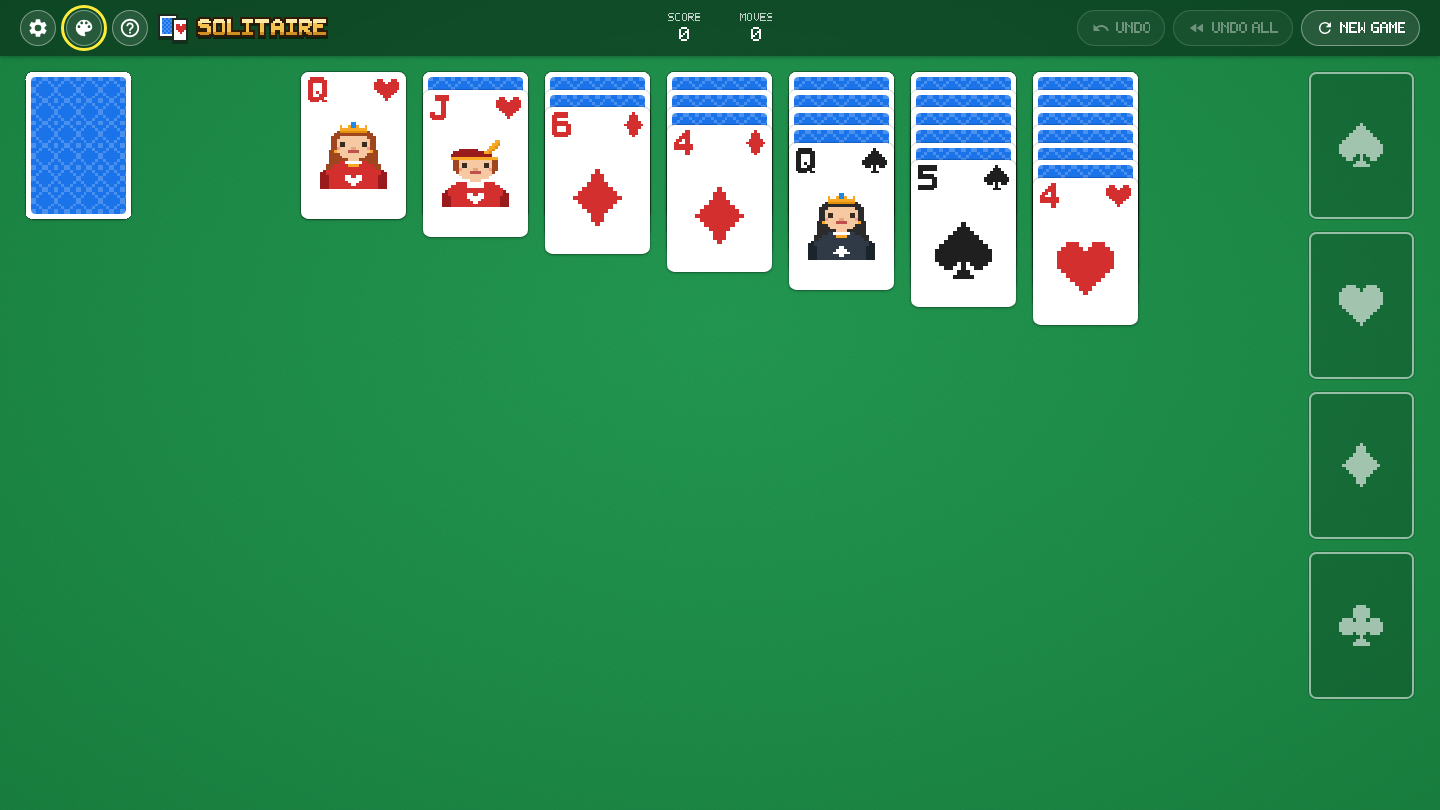
Test: quick table picker › Escape or a click outside closes it, and focus returns to the palette button
The image size is (1440, 810).
Click the button named "Change table" at (84, 28), box [66,10,102,46]
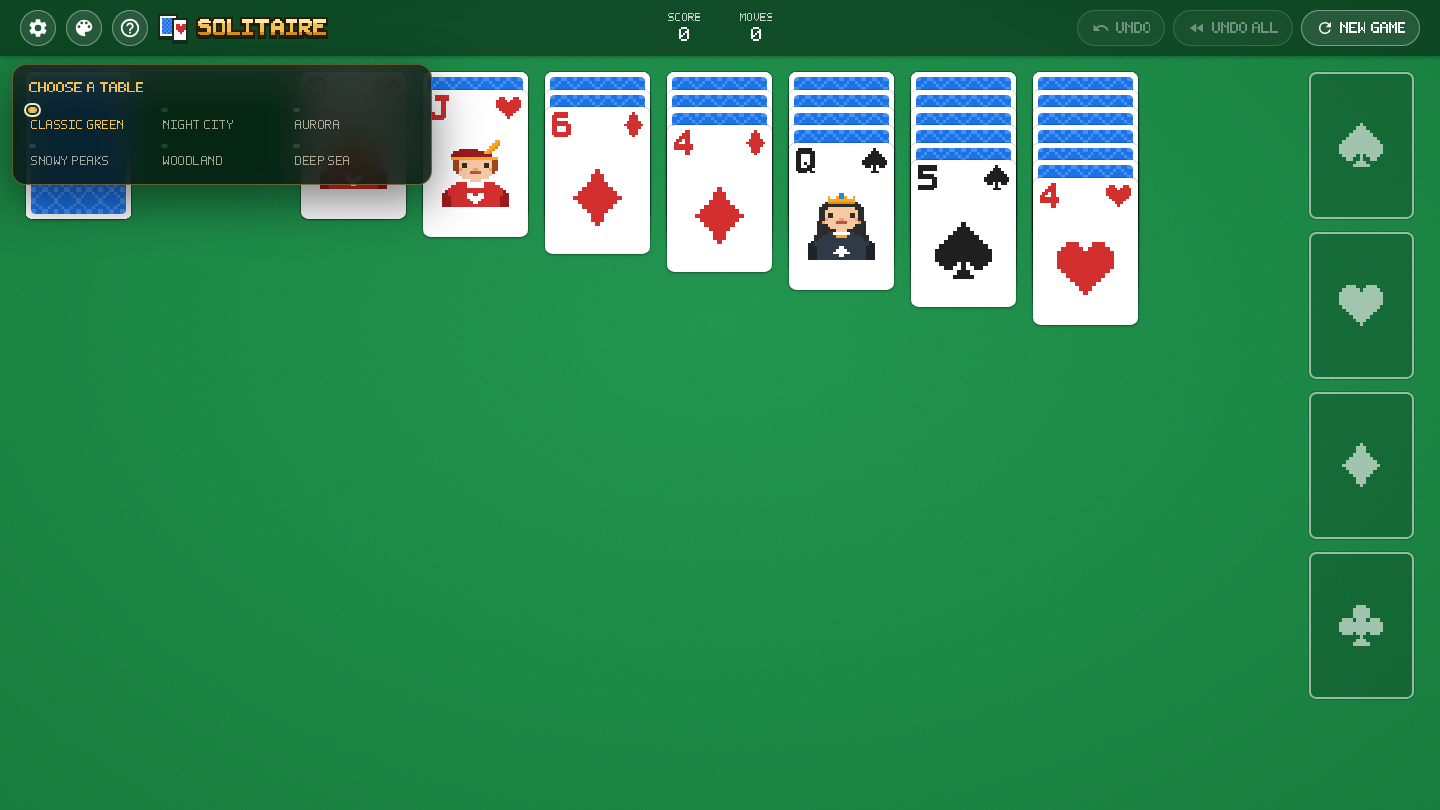
Press Escape
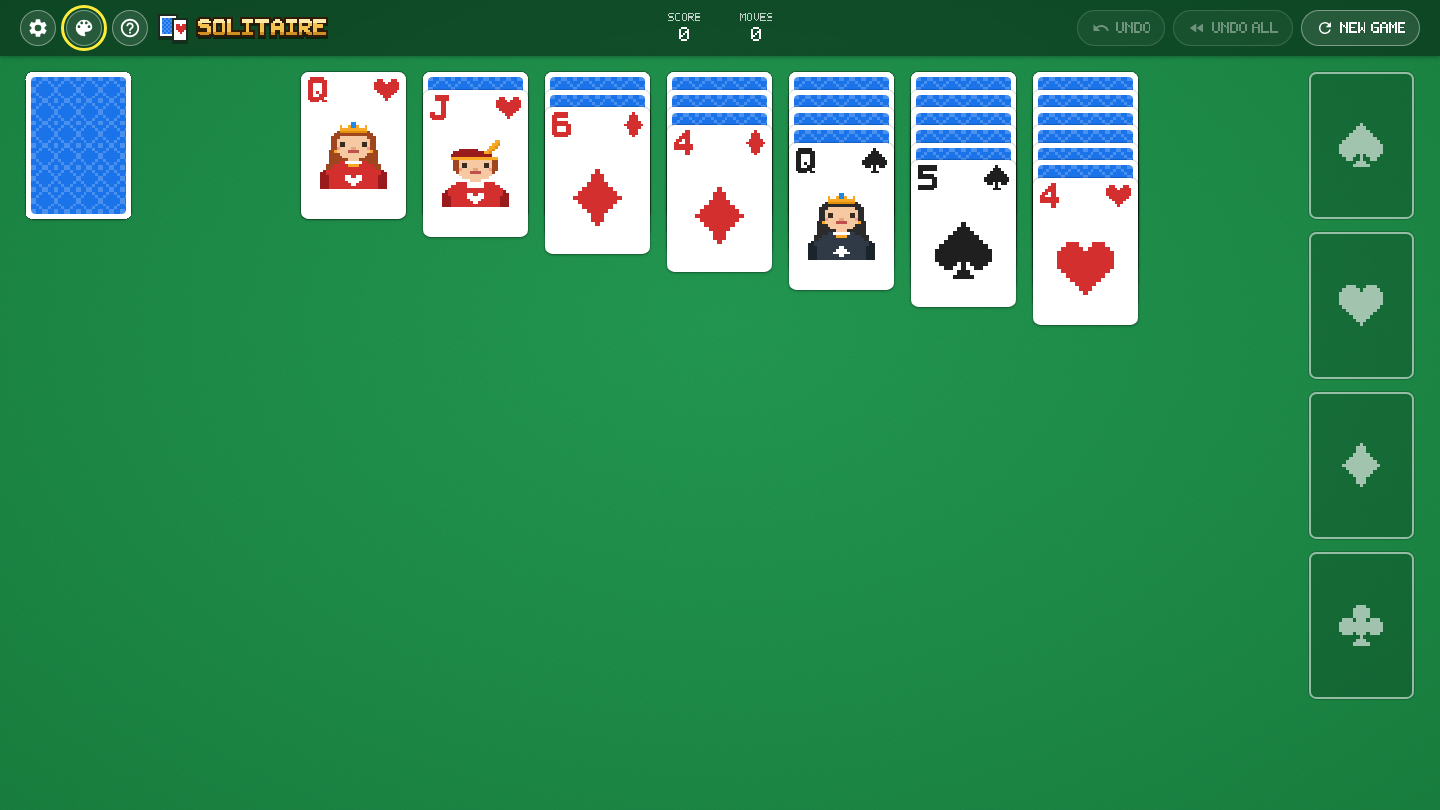
Expected: the dialog is gone
Click the button named "Change table" at (84, 28), box [66,10,102,46]
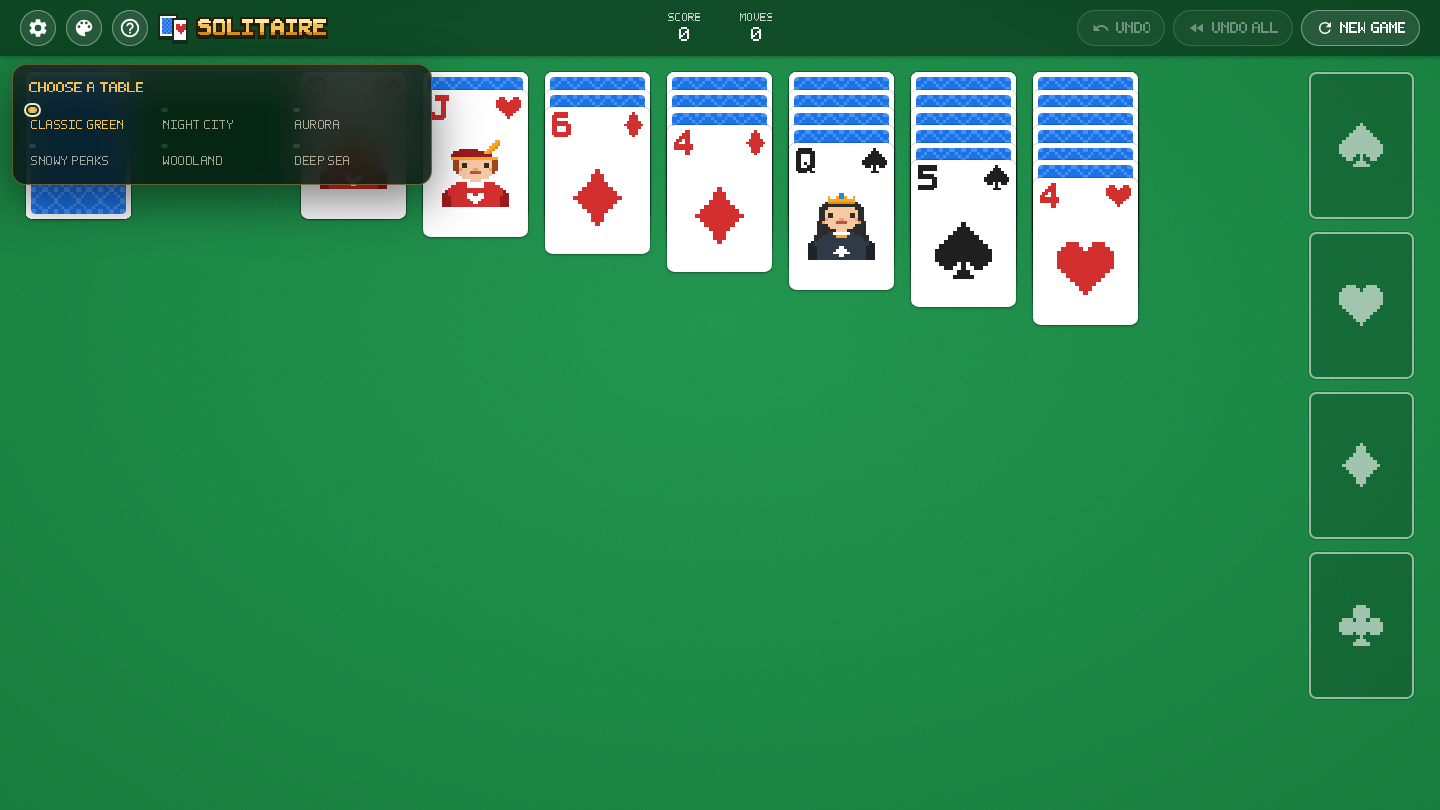
Click the element with test id "table-picker-backdrop" at (720, 405), box [0,0,1439,809]
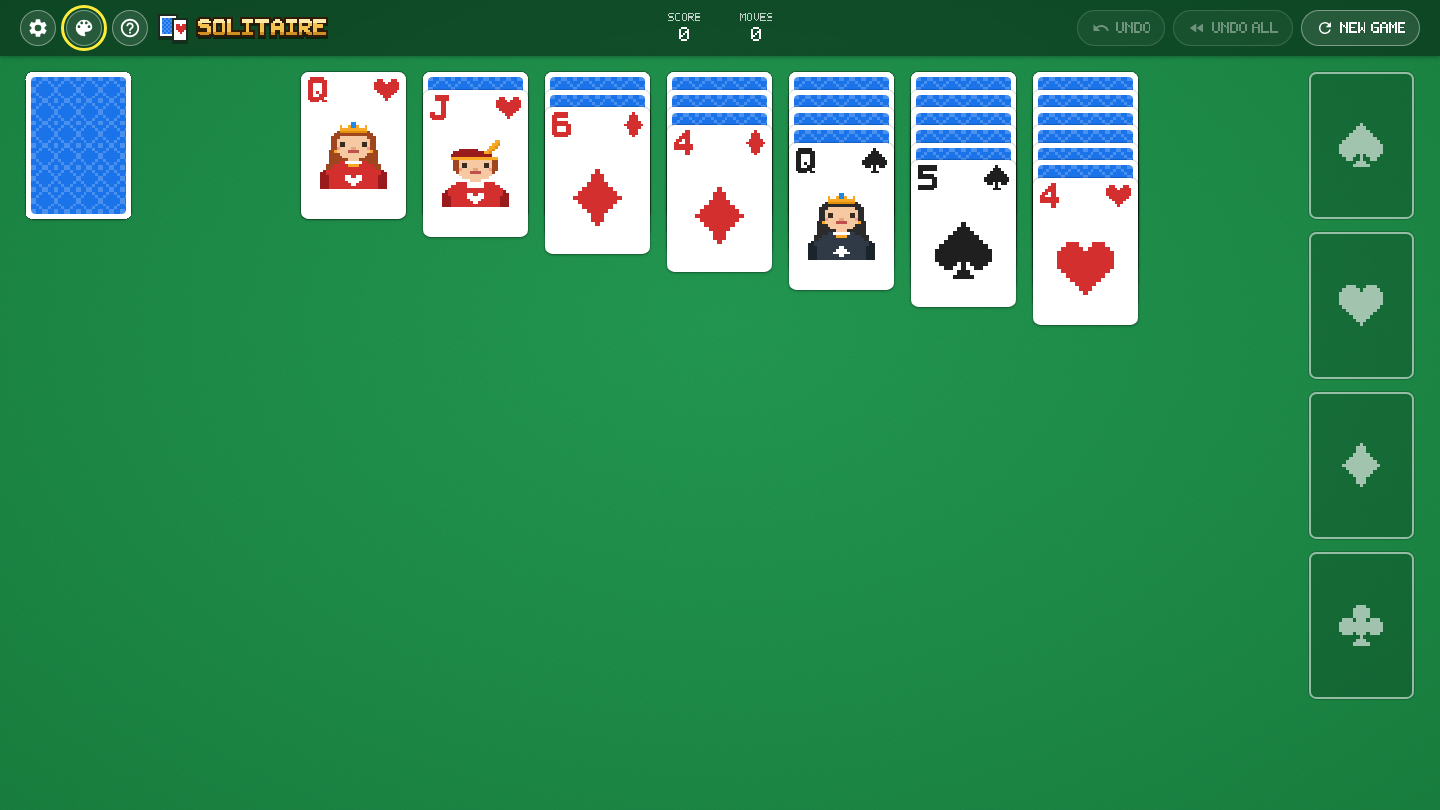
Expected: the dialog is gone
